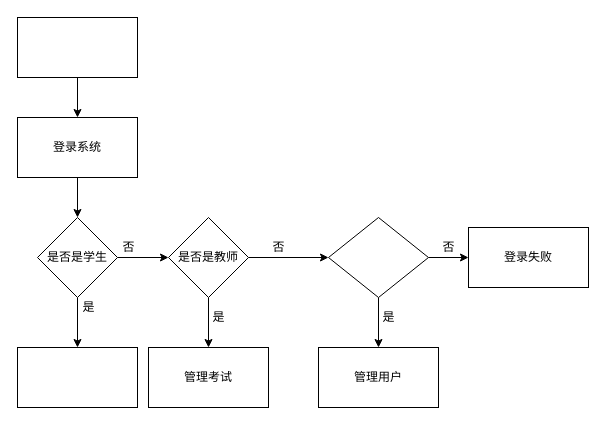
The diagram is 606 pixels wide and 425 high, and some of its shapes have lost their labels. The shapes that lost their labels are listed below. From the top down, each one's centre as x and y in pixels, then its label:
At (77,47): "注册系统".
At (378,257): "是否是管理员".
At (77,377): "参与考试".
